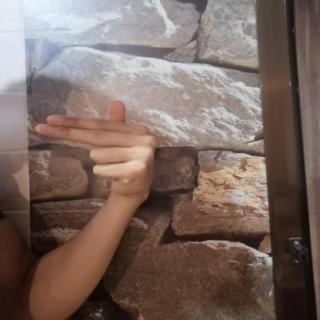GHAYN: (27, 96, 166, 204)
